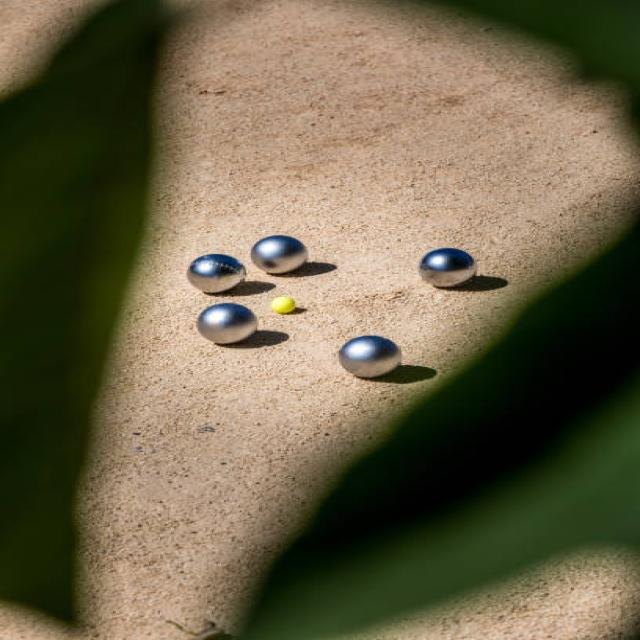hatball: (265, 292, 308, 321)
petanque: (168, 245, 253, 300), (237, 227, 317, 285), (322, 336, 414, 385), (405, 240, 490, 292), (194, 299, 270, 352)
